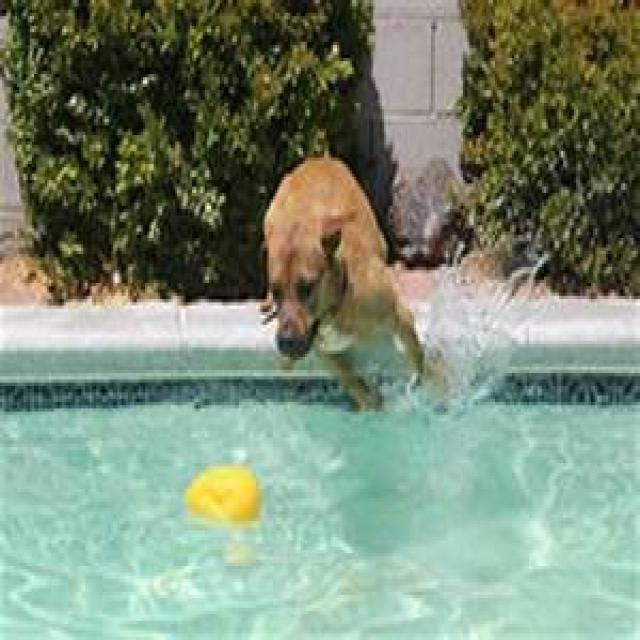dog: (260, 158, 427, 412)
